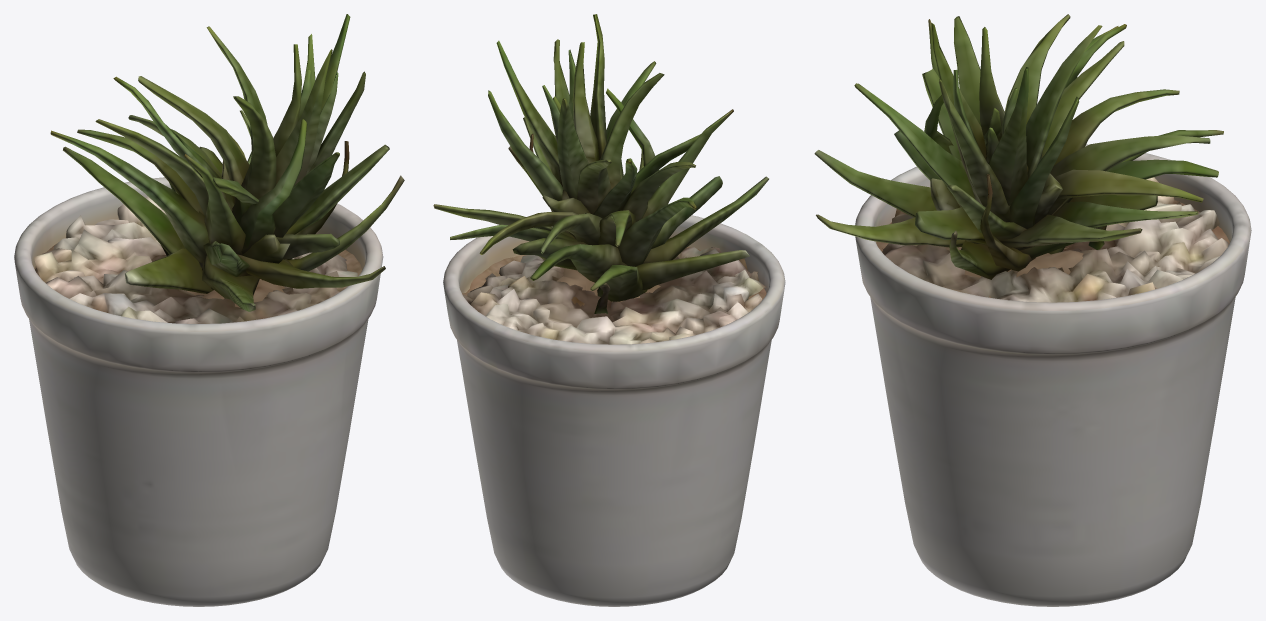
The model's file is aloe.glb.
The picture shows the model from 3 angles, left to right: view 1: azimuth 30°, elevation 25°; view 2: azimuth 150°, elevation 25°; view 3: azimuth 270°, elevation 25°; orthographic projection. The views are drawn at different scales.
Visible parts, largest first — view 1: potted_plant_04_pot, potted_plant_04_plant, potted_plant_04_ground, potted_plant_04_dirt; view 2: potted_plant_04_pot, potted_plant_04_plant, potted_plant_04_ground, potted_plant_04_dirt; view 3: potted_plant_04_pot, potted_plant_04_plant, potted_plant_04_ground, potted_plant_04_dirt.
Boxes of the visible parts, <box> form: potted_plant_04_pot: <box>14,177,383,606</box>; potted_plant_04_plant: <box>50,14,404,311</box>; potted_plant_04_ground: <box>34,196,357,323</box>; potted_plant_04_dirt: <box>34,219,362,307</box>; potted_plant_04_pot: <box>443,215,785,606</box>; potted_plant_04_plant: <box>433,14,768,313</box>; potted_plant_04_ground: <box>463,247,766,344</box>; potted_plant_04_dirt: <box>462,247,766,306</box>; potted_plant_04_pot: <box>855,144,1251,606</box>; potted_plant_04_plant: <box>814,14,1223,279</box>; potted_plant_04_ground: <box>882,177,1228,302</box>; potted_plant_04_dirt: <box>876,200,1229,297</box>.
Bounding box in the file's own units: 0.1679 × 0.2672 × 0.1848.
1 material, 1 textured.
